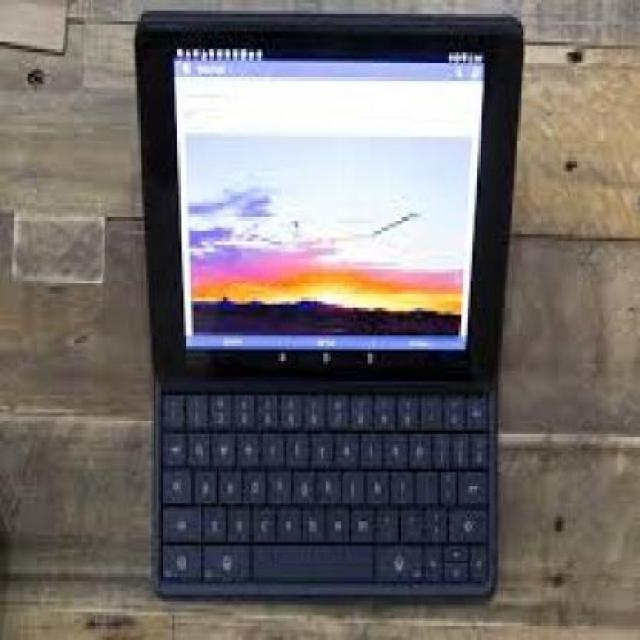keyboard: (158, 385, 498, 592)
